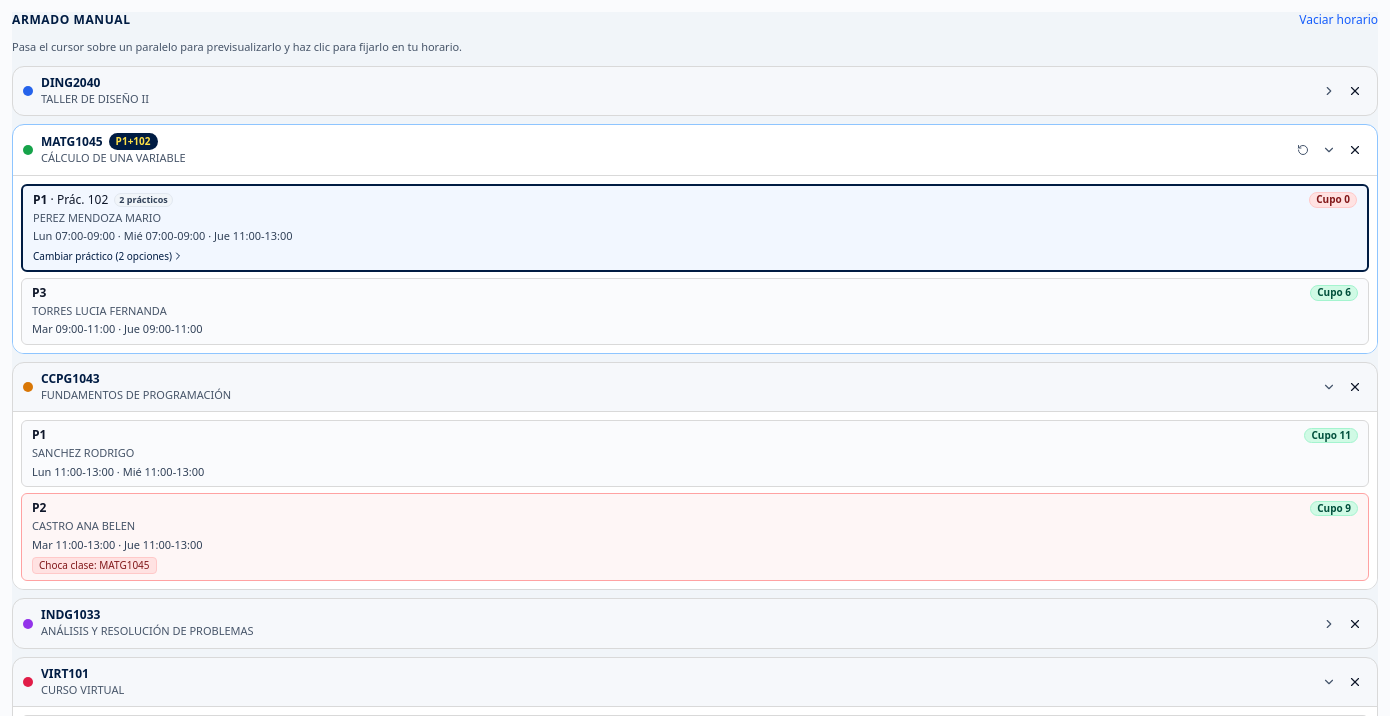
it: Planner UI components › renders ManualCourseSidebar empty and populated states with conflict badges and hover preview
Earlier steps of the test are not shown.
Later steps or results of the test are not shown.
Click the button named "Mostrar u ocultar paralelos de DING2040" at {"x": 1329, "y": 91}, box x1=1317 y1=79 x2=1341 y2=103
Click the button named "Eliminar DING2040 del catálogo" at {"x": 1355, "y": 91}, box x1=1343 y1=79 x2=1367 y2=103
Click the button "P2" at {"x": 1334, "y": 508}, box x1=21 y1=493 x2=1369 y2=581
Click the button "Vaciar horario" at {"x": 1339, "y": 20}, box x1=1299 y1=12 x2=1378 y2=28
Expected: the text "2 prácticos" is shown, x1=114 y1=193 x2=173 y2=207
Expected: the text "Prác. 101" is not shown
Click the button "Cambiar práctico (2 opciones)" at {"x": 78, "y": 199}, box x1=21 y1=184 x2=1369 y2=272
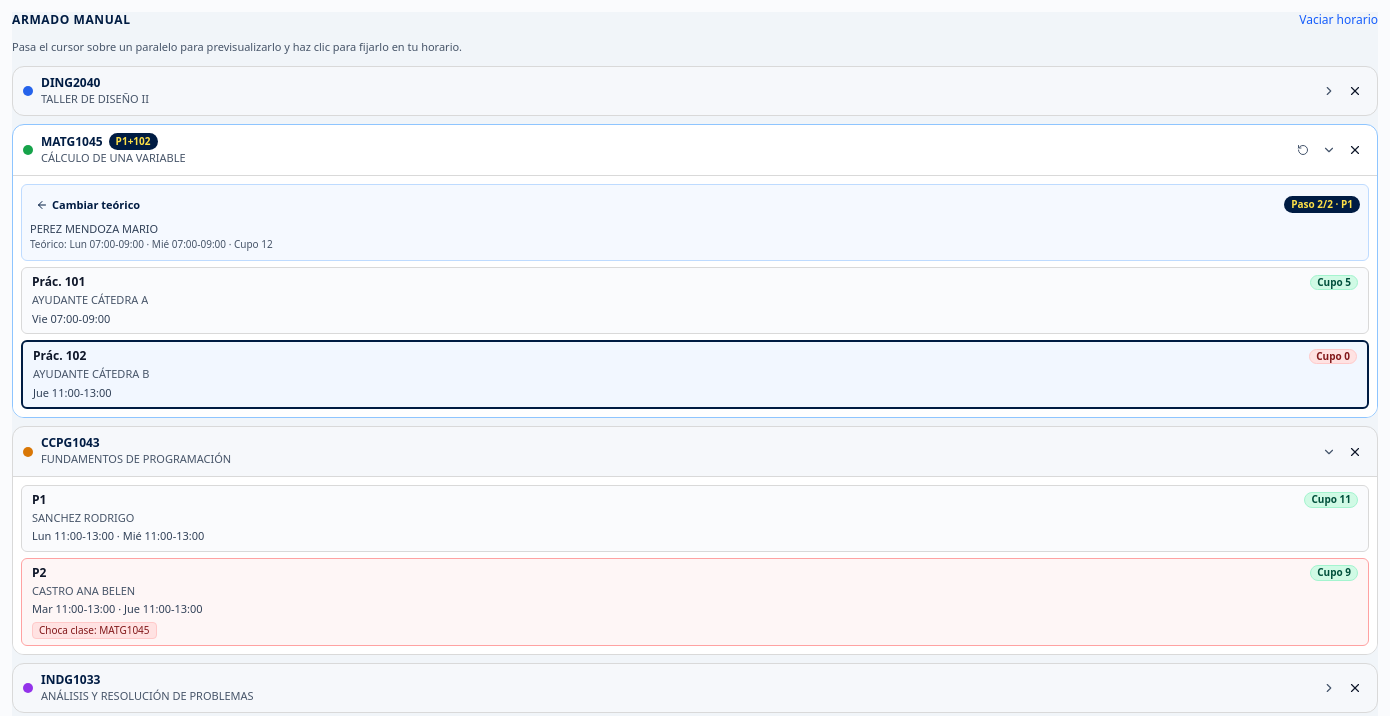
Now the text "Paso 2/2 · P1" is shown, box x1=1284 y1=196 x2=1360 y2=213
Now the text "Prác. 101" is shown, box x1=32 y1=274 x2=85 y2=290
Now the text "Prác. 102" is shown, box x1=33 y1=348 x2=86 y2=364
Back button returns to Step 1 without toggling
Click the button "Cambiar teórico" at {"x": 88, "y": 205}, box x1=30 y1=193 x2=146 y2=217
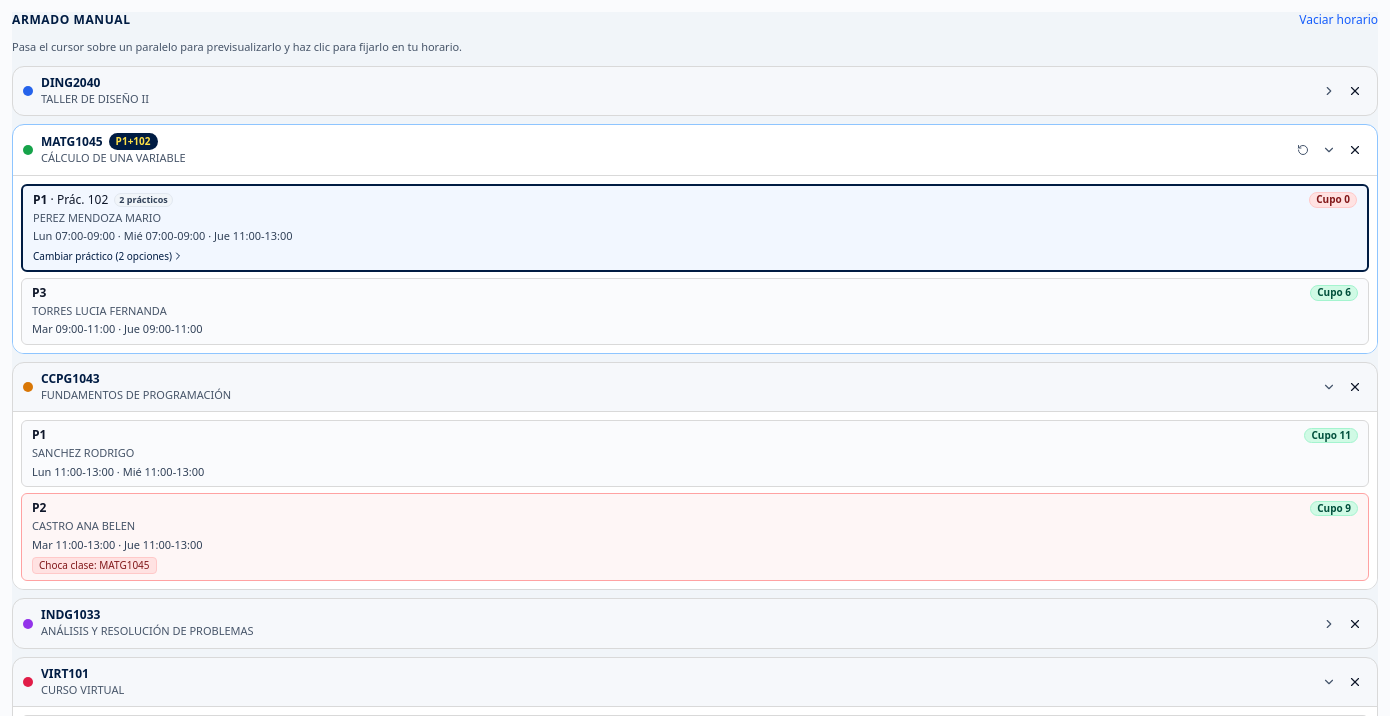
Now the text "Paso 2/2 · P1" is gone
Re-enter Step 2, hover Prác. 101 to preview full combo, click to select & return to Step 1
Click the button "Cambiar práctico (2 opciones)" at {"x": 78, "y": 199}, box x1=21 y1=184 x2=1369 y2=272
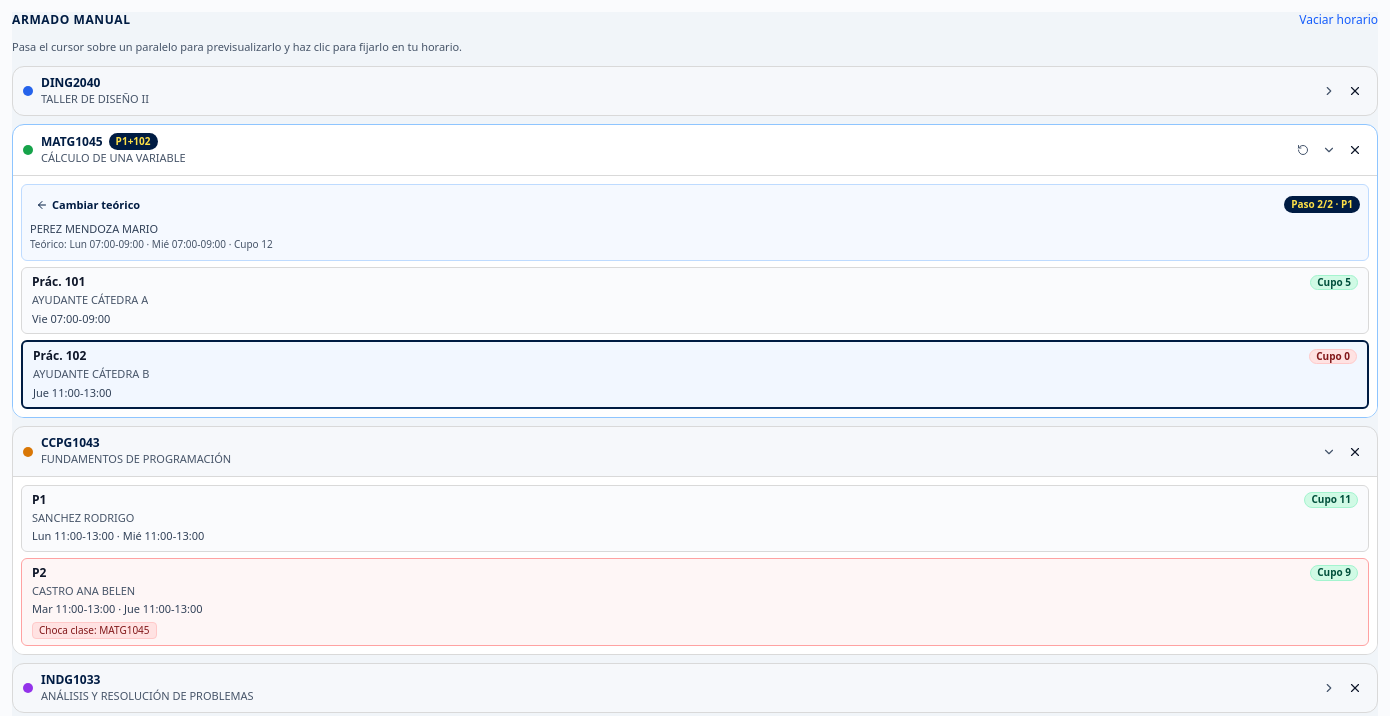
Click the button "Prác. 101" at {"x": 48, "y": 282}, box x1=21 y1=267 x2=1369 y2=334
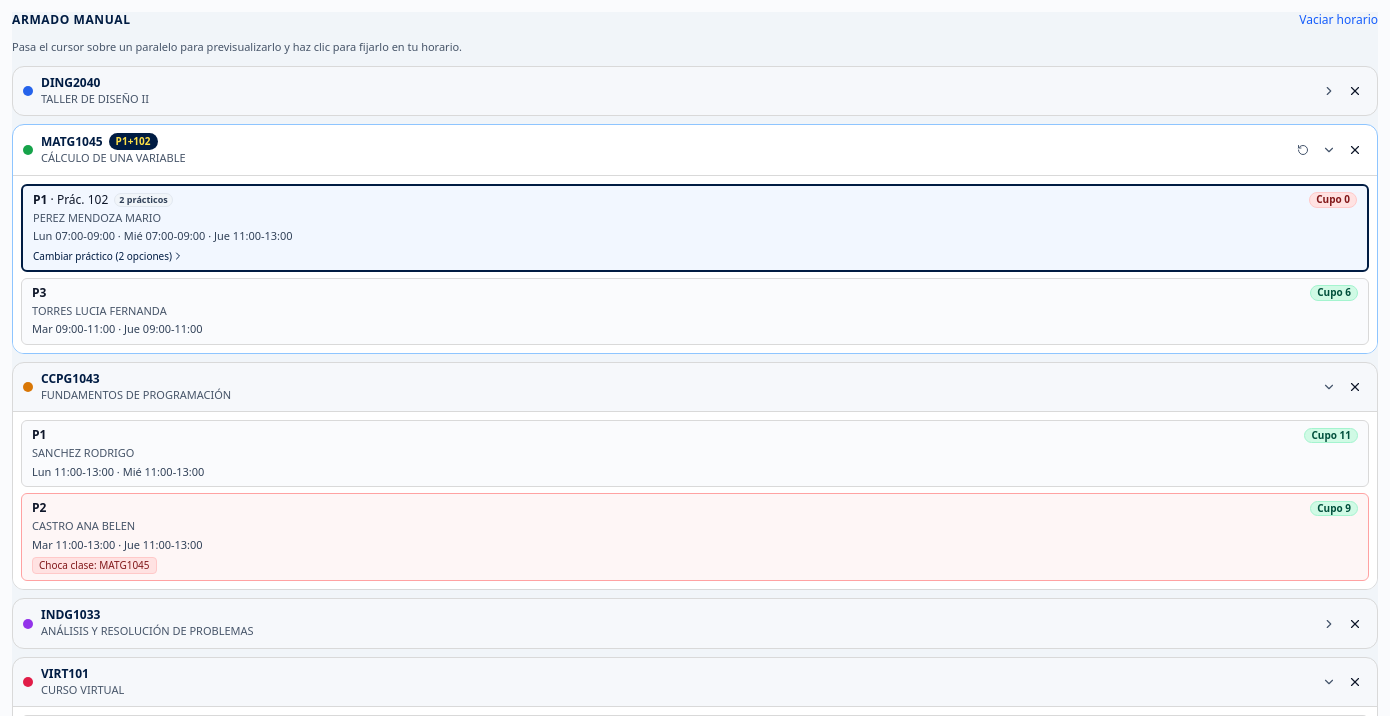
Now the text "Paso 2/2 · P1" is gone
